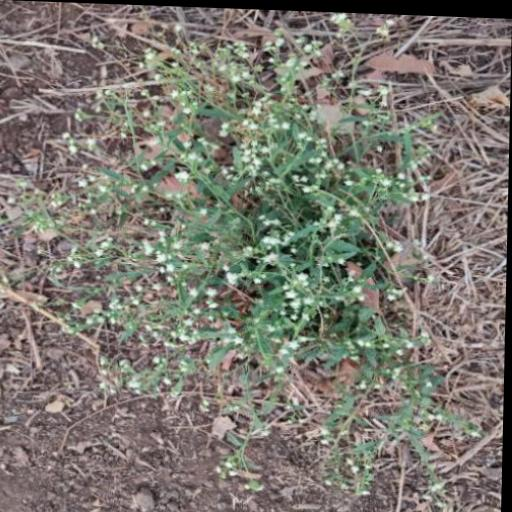weed: (40, 38, 395, 379)
